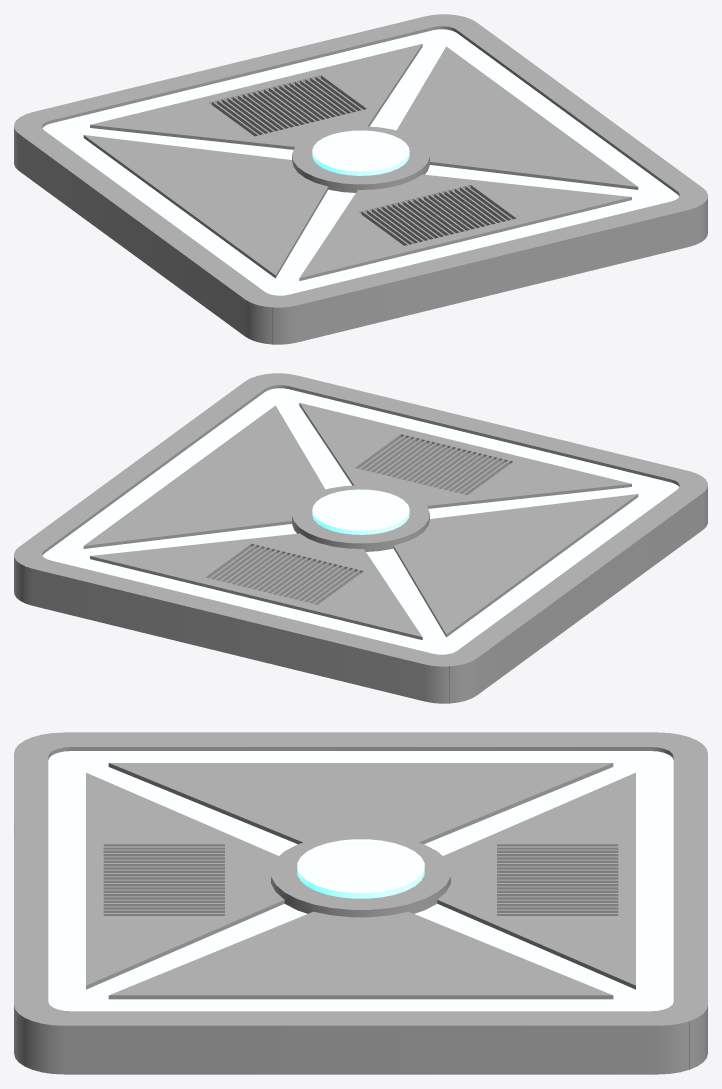
Rendered from Groundplate.fbx.
3 renders of one model, top to bottom at view 1: azimuth 30°, elevation 25°; view 2: azimuth 150°, elevation 25°; view 3: azimuth 270°, elevation 25°, orthographic. The views are drawn at different scales.
Parts seen in each view (by area): view 1: Plane; view 2: Plane; view 3: Plane.
Part boxes in pixels (<box>): Plane: <box>14,14,707,344</box>; Plane: <box>14,373,707,703</box>; Plane: <box>14,732,707,1074</box>.
Size of the model in its own units: 29.44 by 300 by 300.
